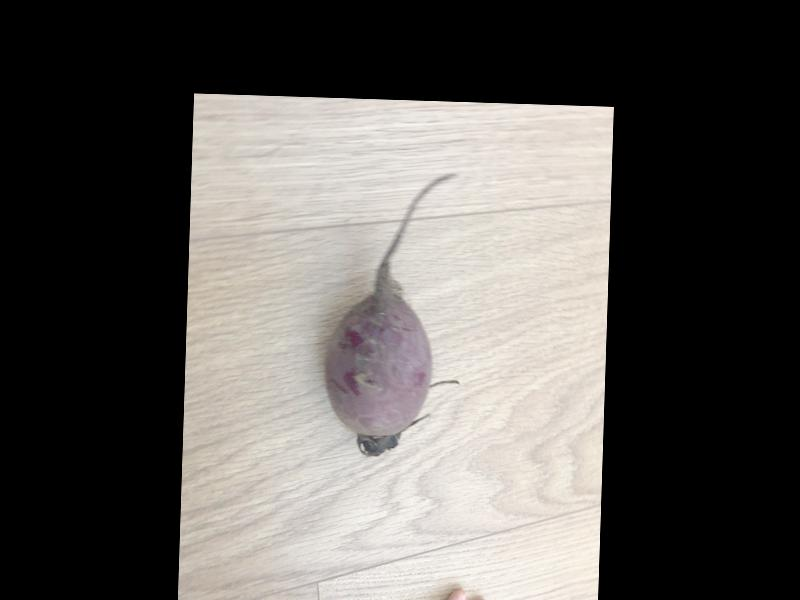Beet: (324, 168, 465, 457)
